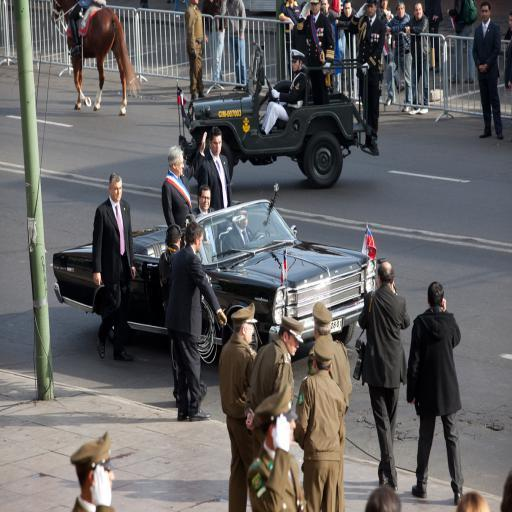horse: (50, 0, 145, 117)
